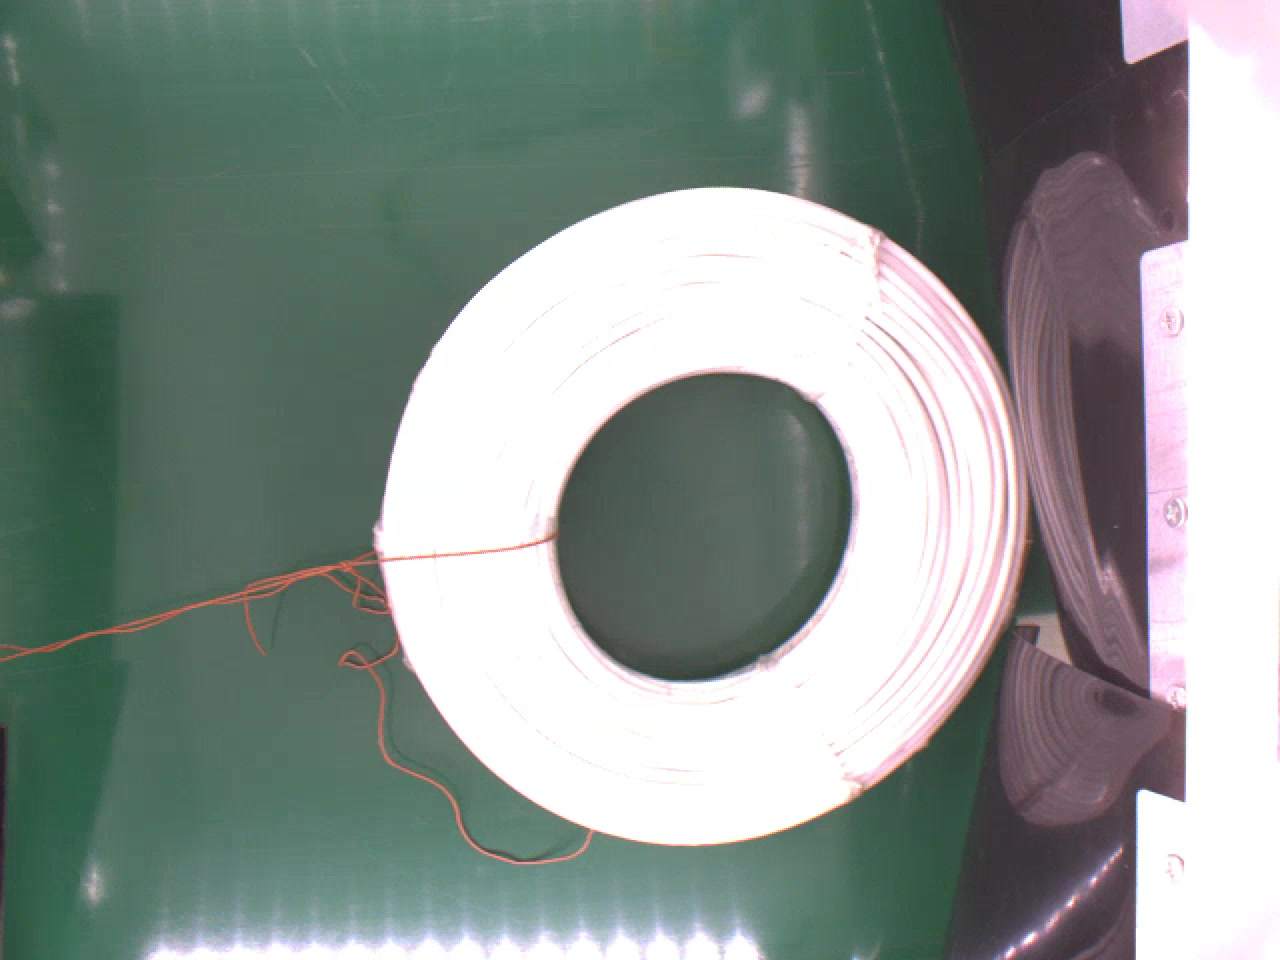white: (373, 184, 1038, 848)
